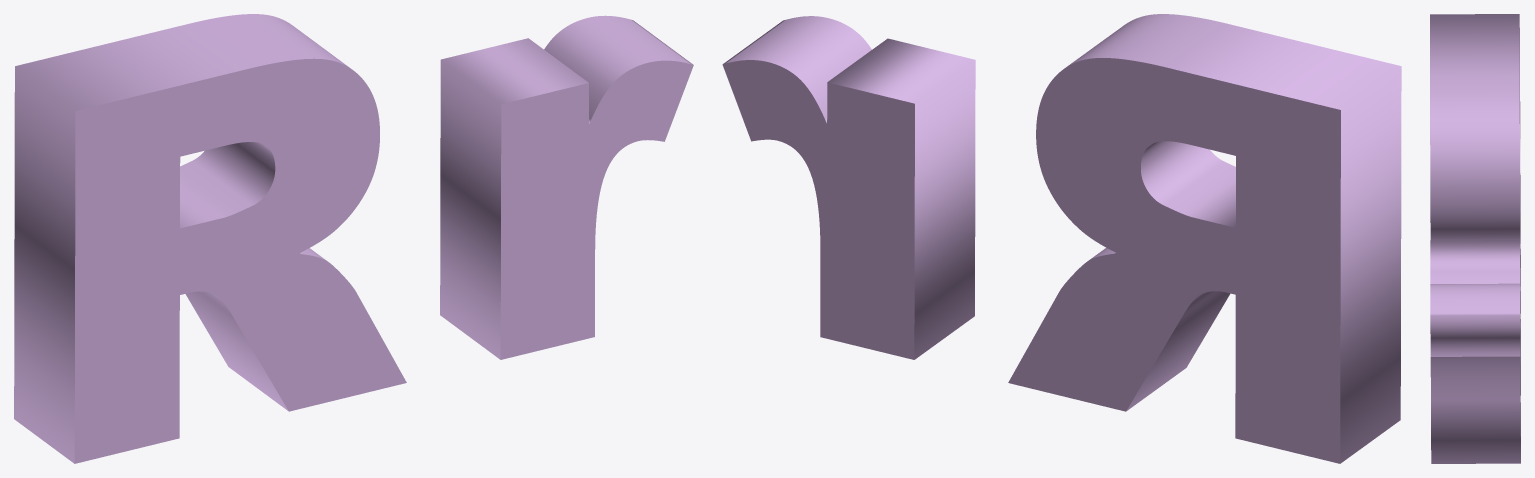
The model's file is letra r.fbx.
3 renders of one model, left to right at view 1: azimuth 30°, elevation 25°; view 2: azimuth 150°, elevation 25°; view 3: azimuth 270°, elevation 25°, orthographic. The views are drawn at different scales.
Parts seen in each view (by area): view 1: Text; view 2: Text; view 3: Text.
Part boxes in pixels (left/top/right/bottom): Text: left=14, top=14, right=693, bottom=463; Text: left=722, top=14, right=1401, bottom=463; Text: left=1430, top=14, right=1520, bottom=463.
Bounding box in the file's own units: 94.3 × 51.56 × 16.21.
